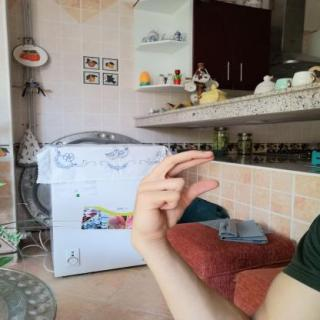DHELL: (126, 144, 227, 243)
